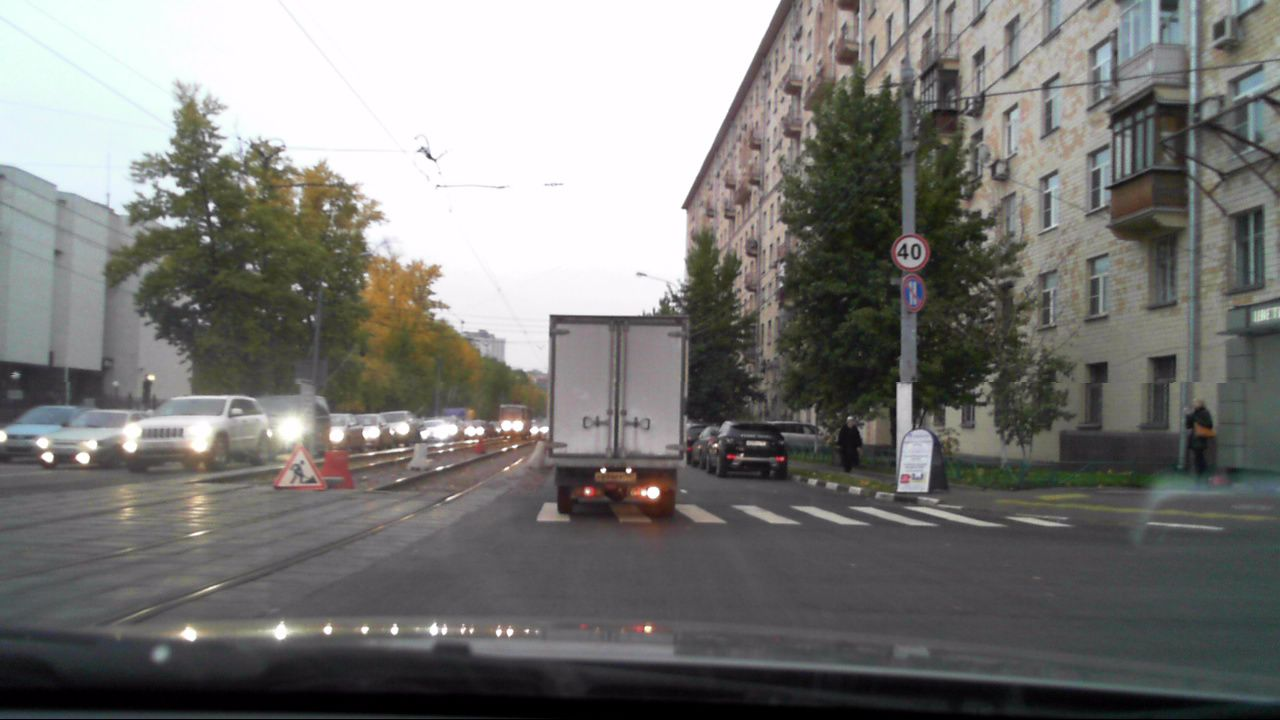speed_warning_40: (892, 236, 927, 271)
